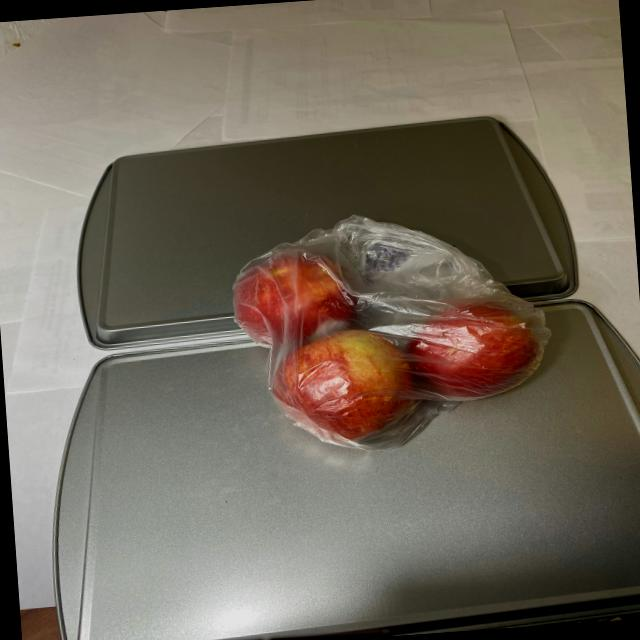apple: (220, 223, 552, 450)
